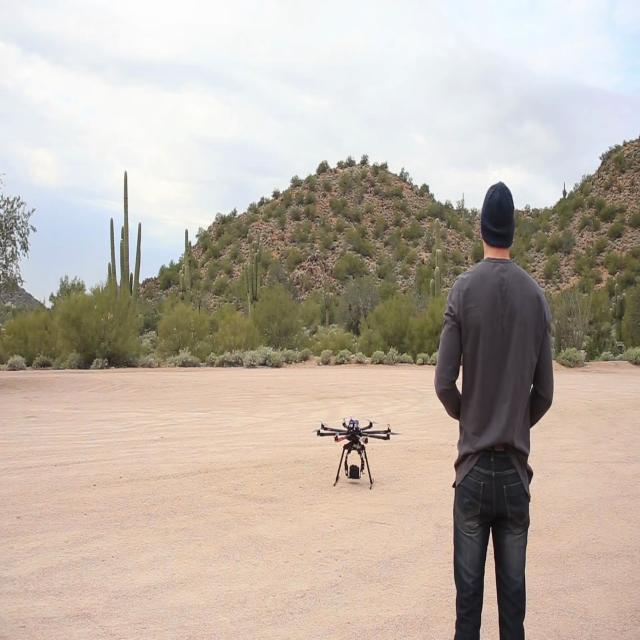drone: (314, 403, 398, 492)
